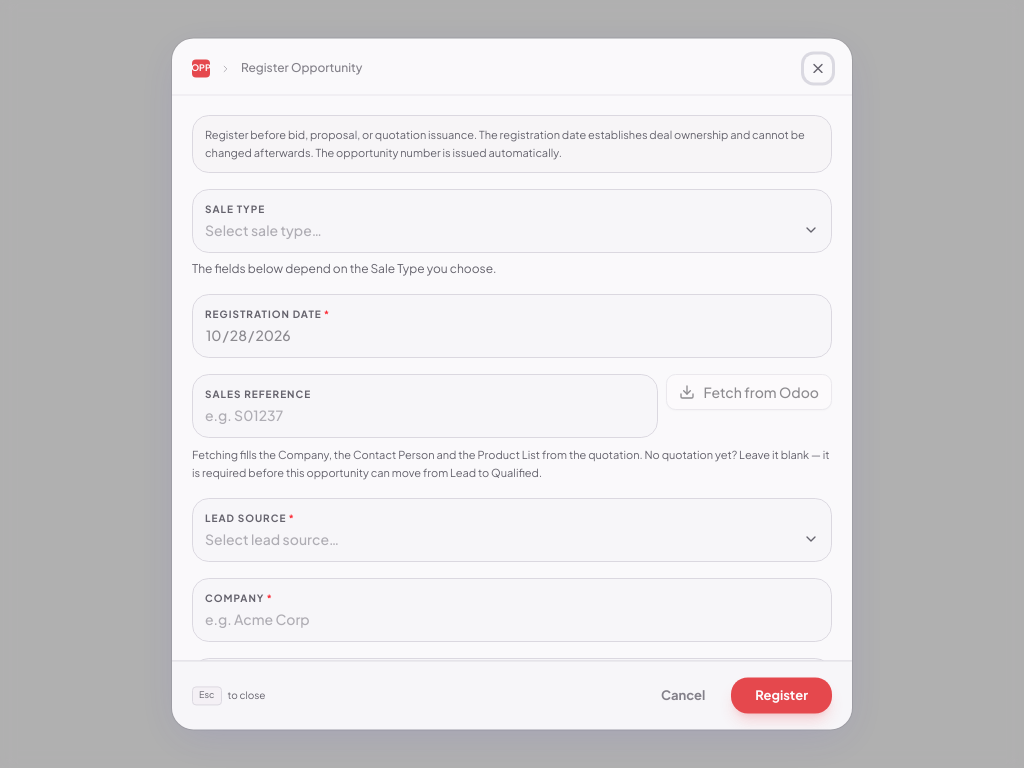
Test: OpportunityFormModal — the customer fetched from Odoo › fills the Company and the Contact Person from the quotation
Type "S08234" into the field with placeholder "e.g. S01237" at (425, 416), box left=205, top=406, right=646, bottom=426
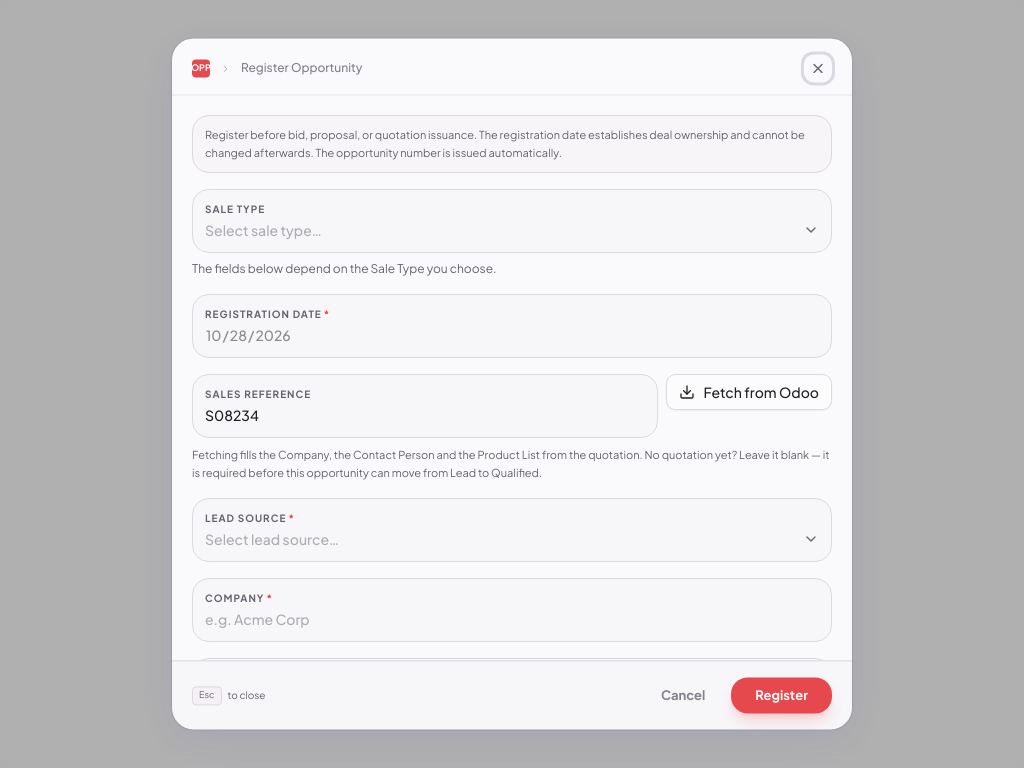
Click the button "Fetch from Odoo" at (749, 392), box left=666, top=374, right=832, bottom=410
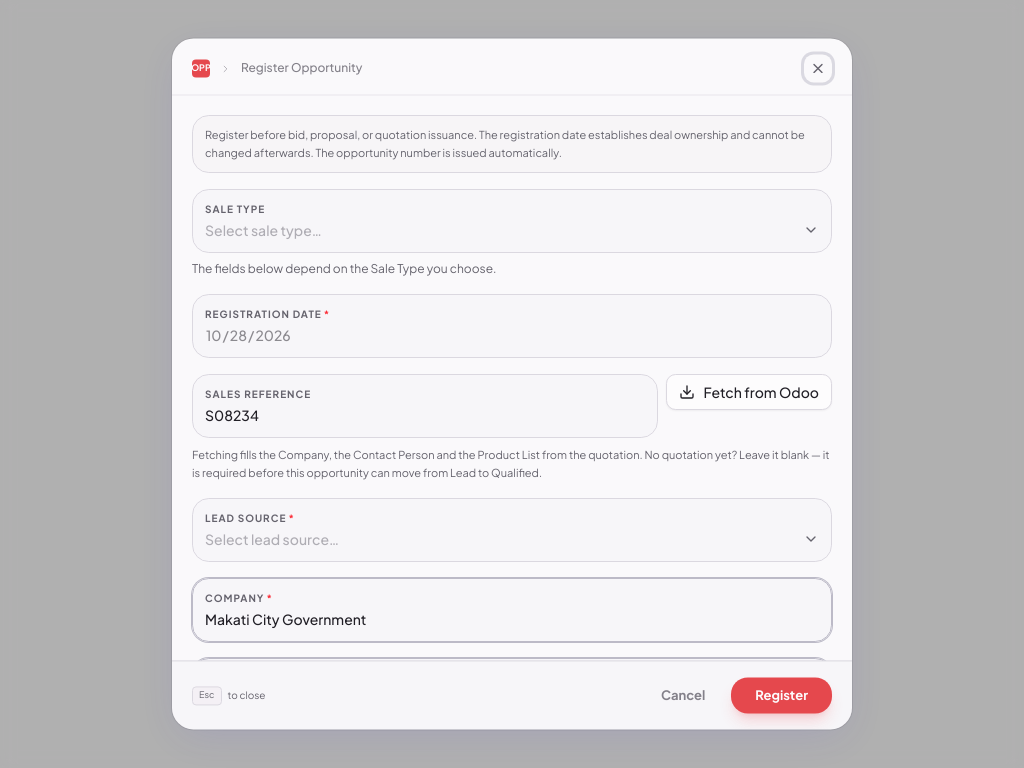
Check: the 2nd field with placeholder "e.g. Acme Corp" holds "Makati City Government", box left=205, top=610, right=819, bottom=630
